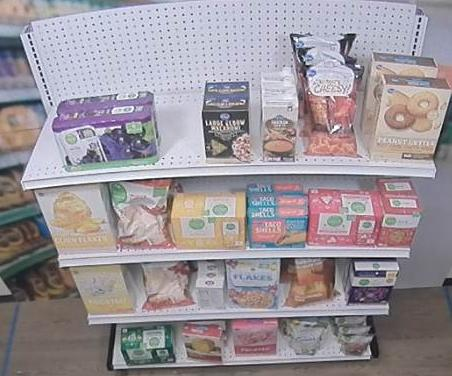stockout: (155, 85, 204, 165), (24, 101, 59, 175)
